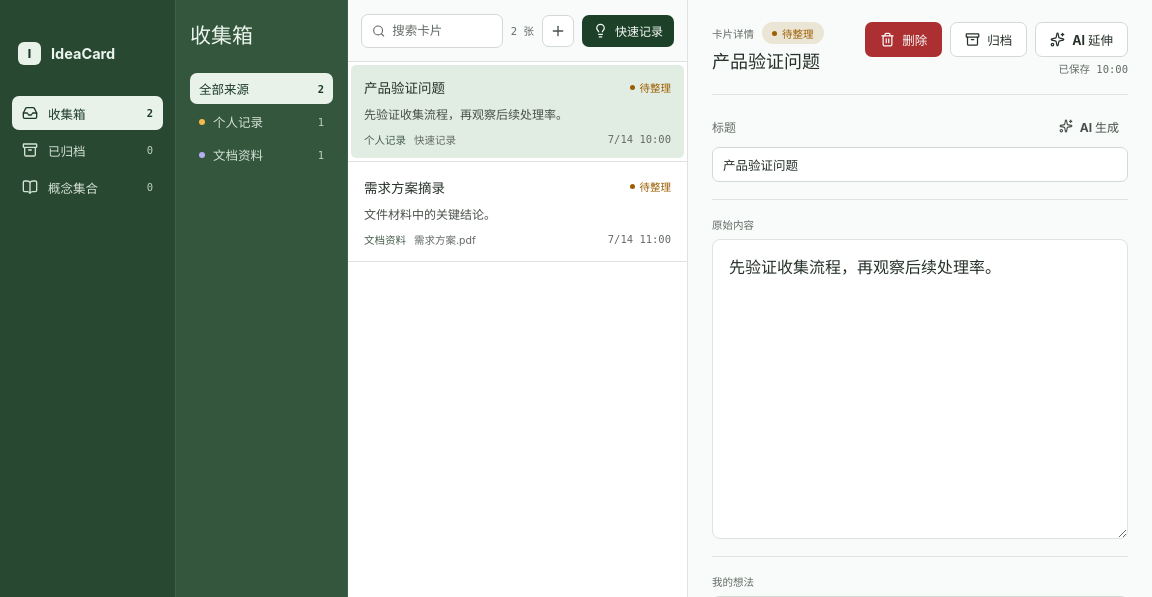
Scenario: InboxPage › deletes an inbox card only after confirmation
Expected: the text "产品验证问题" is shown, [364,80,445,96]
Click the button "删除" at (904, 40), box [865,22,942,57]
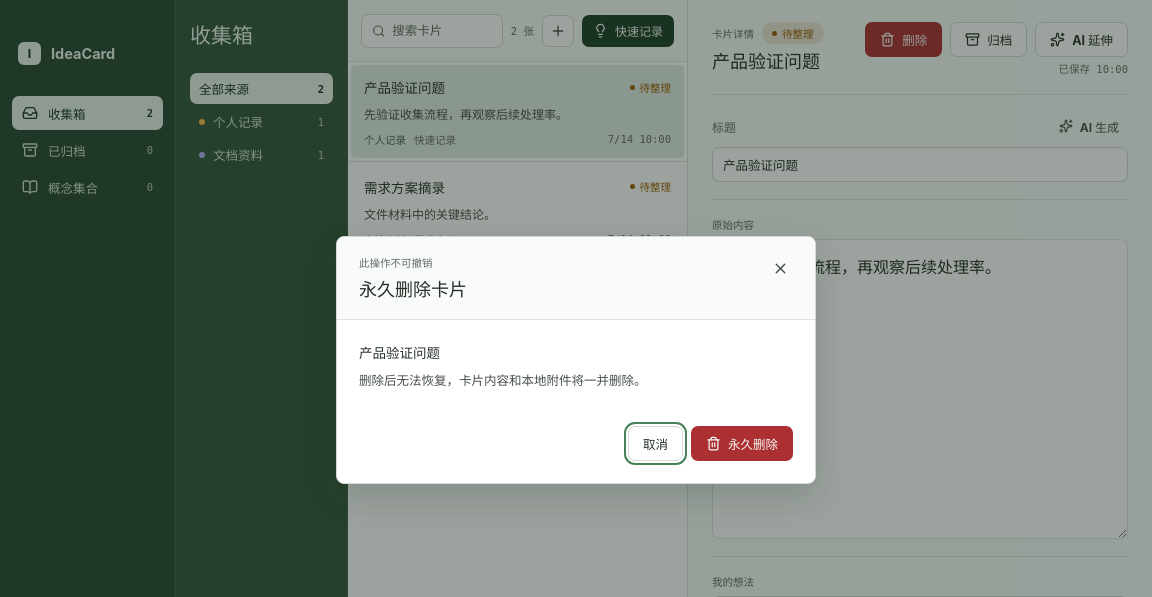
Click the button "永久删除" at (742, 443), box [691,426,793,461]
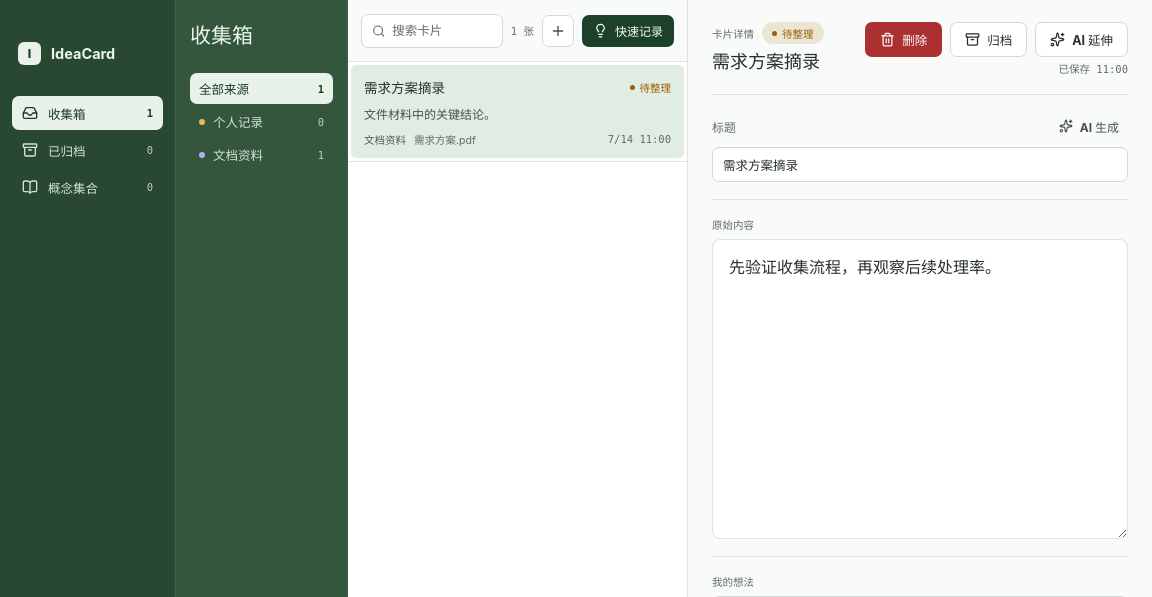
Result: the heading "永久删除卡片" is gone
Result: the button "产品验证问题" is gone
Result: the heading "需求方案摘录" is shown at [712,50,824,76]
